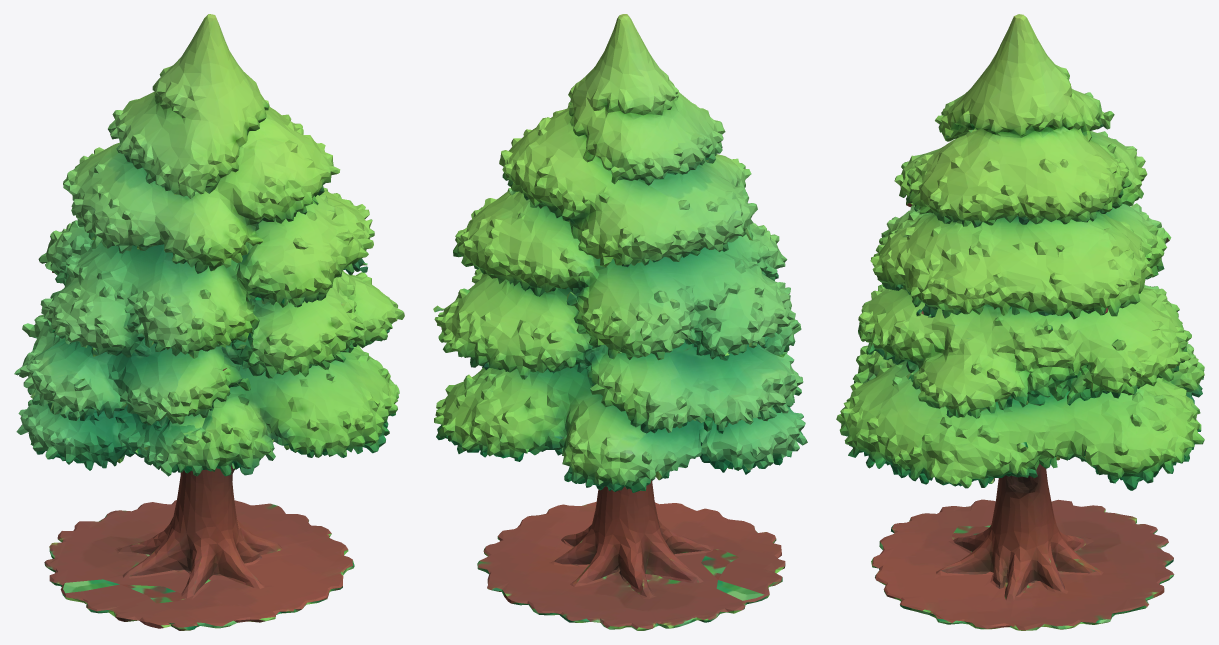
Rendered from tree_pine_cypress_tall.glb.
3 renders of one model, left to right at view 1: azimuth 30°, elevation 25°; view 2: azimuth 150°, elevation 25°; view 3: azimuth 270°, elevation 25°, orthographic.
Visible parts, largest first — view 1: tmpb4zev_9j.ply; view 2: tmpb4zev_9j.ply; view 3: tmpb4zev_9j.ply.
Part boxes in pixels (<box>): tmpb4zev_9j.ply: <box>14,14,404,630</box>; tmpb4zev_9j.ply: <box>433,14,807,630</box>; tmpb4zev_9j.ply: <box>836,14,1204,630</box>.
Bounding box in the file's own units: 1.28 × 1.99 × 1.19.
1 material, 1 textured.
